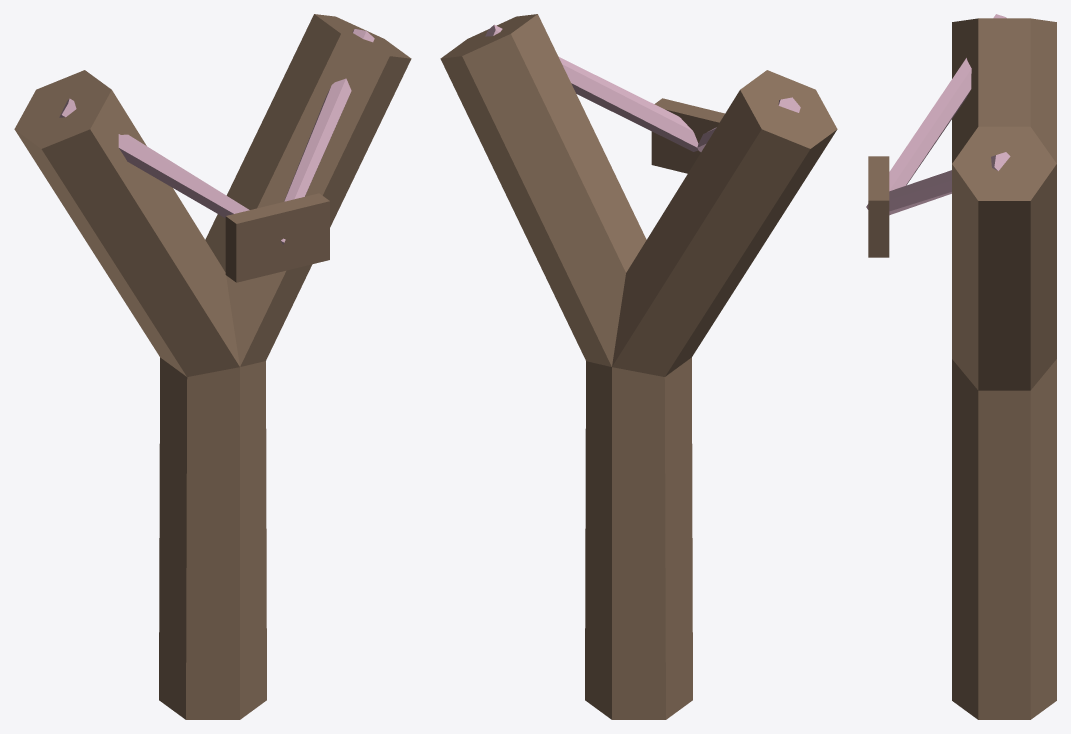
File: Slingshot.fbx
The picture shows the model from 3 angles, left to right: view 1: azimuth 30°, elevation 25°; view 2: azimuth 150°, elevation 25°; view 3: azimuth 270°, elevation 25°; orthographic projection. The views are drawn at different scales.
Parts seen in each view (by area): view 1: Prop_Slingshot; view 2: Prop_Slingshot; view 3: Prop_Slingshot.
Part boxes in pixels (x1=…): Prop_Slingshot: x1=14, y1=14, x2=411, y2=719; Prop_Slingshot: x1=440, y1=14, x2=837, y2=719; Prop_Slingshot: x1=866, y1=14, x2=1056, y2=719.
Size of the model in its own units: 0.1976 by 0.3307 by 0.091.
